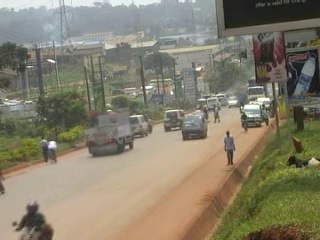Car: (162, 106, 187, 133), (227, 94, 240, 107)
Motorcycle: (10, 199, 53, 236), (199, 104, 210, 119), (194, 103, 203, 119)
